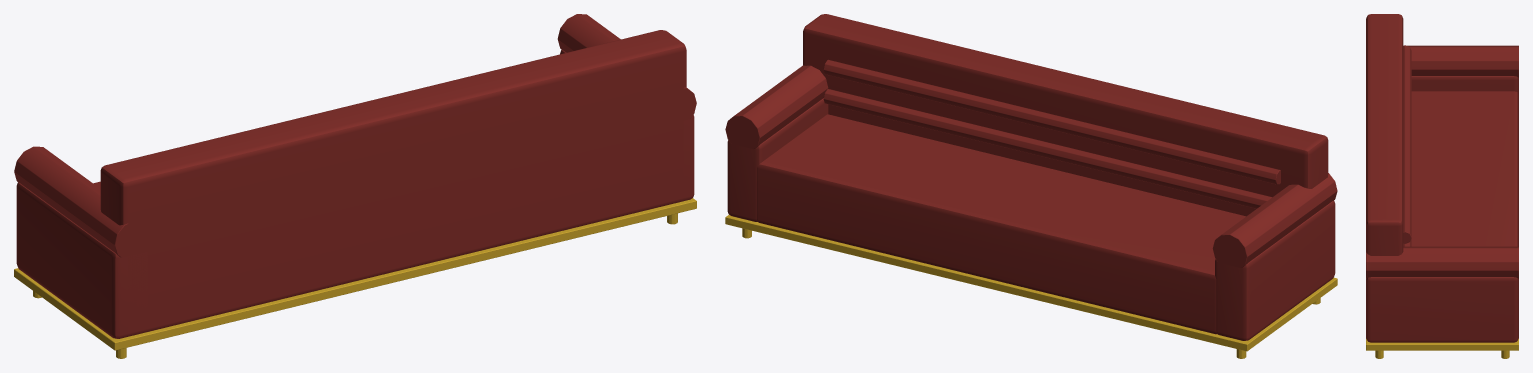
The model's file is prop_ah_vip_sofa.glb.
3 renders of one model, left to right at view 1: azimuth 30°, elevation 25°; view 2: azimuth 150°, elevation 25°; view 3: azimuth 270°, elevation 25°, orthographic. The views are drawn at different scales.
Parts seen in each view (by area): view 1: Body; view 2: Body; view 3: Body.
Part boxes in pixels (bbox=[...]): Body: bbox=[14, 14, 696, 358]; Body: bbox=[725, 14, 1337, 358]; Body: bbox=[1366, 14, 1518, 358].
Bounding box in the file's own units: 3 × 0.9 × 0.9.
